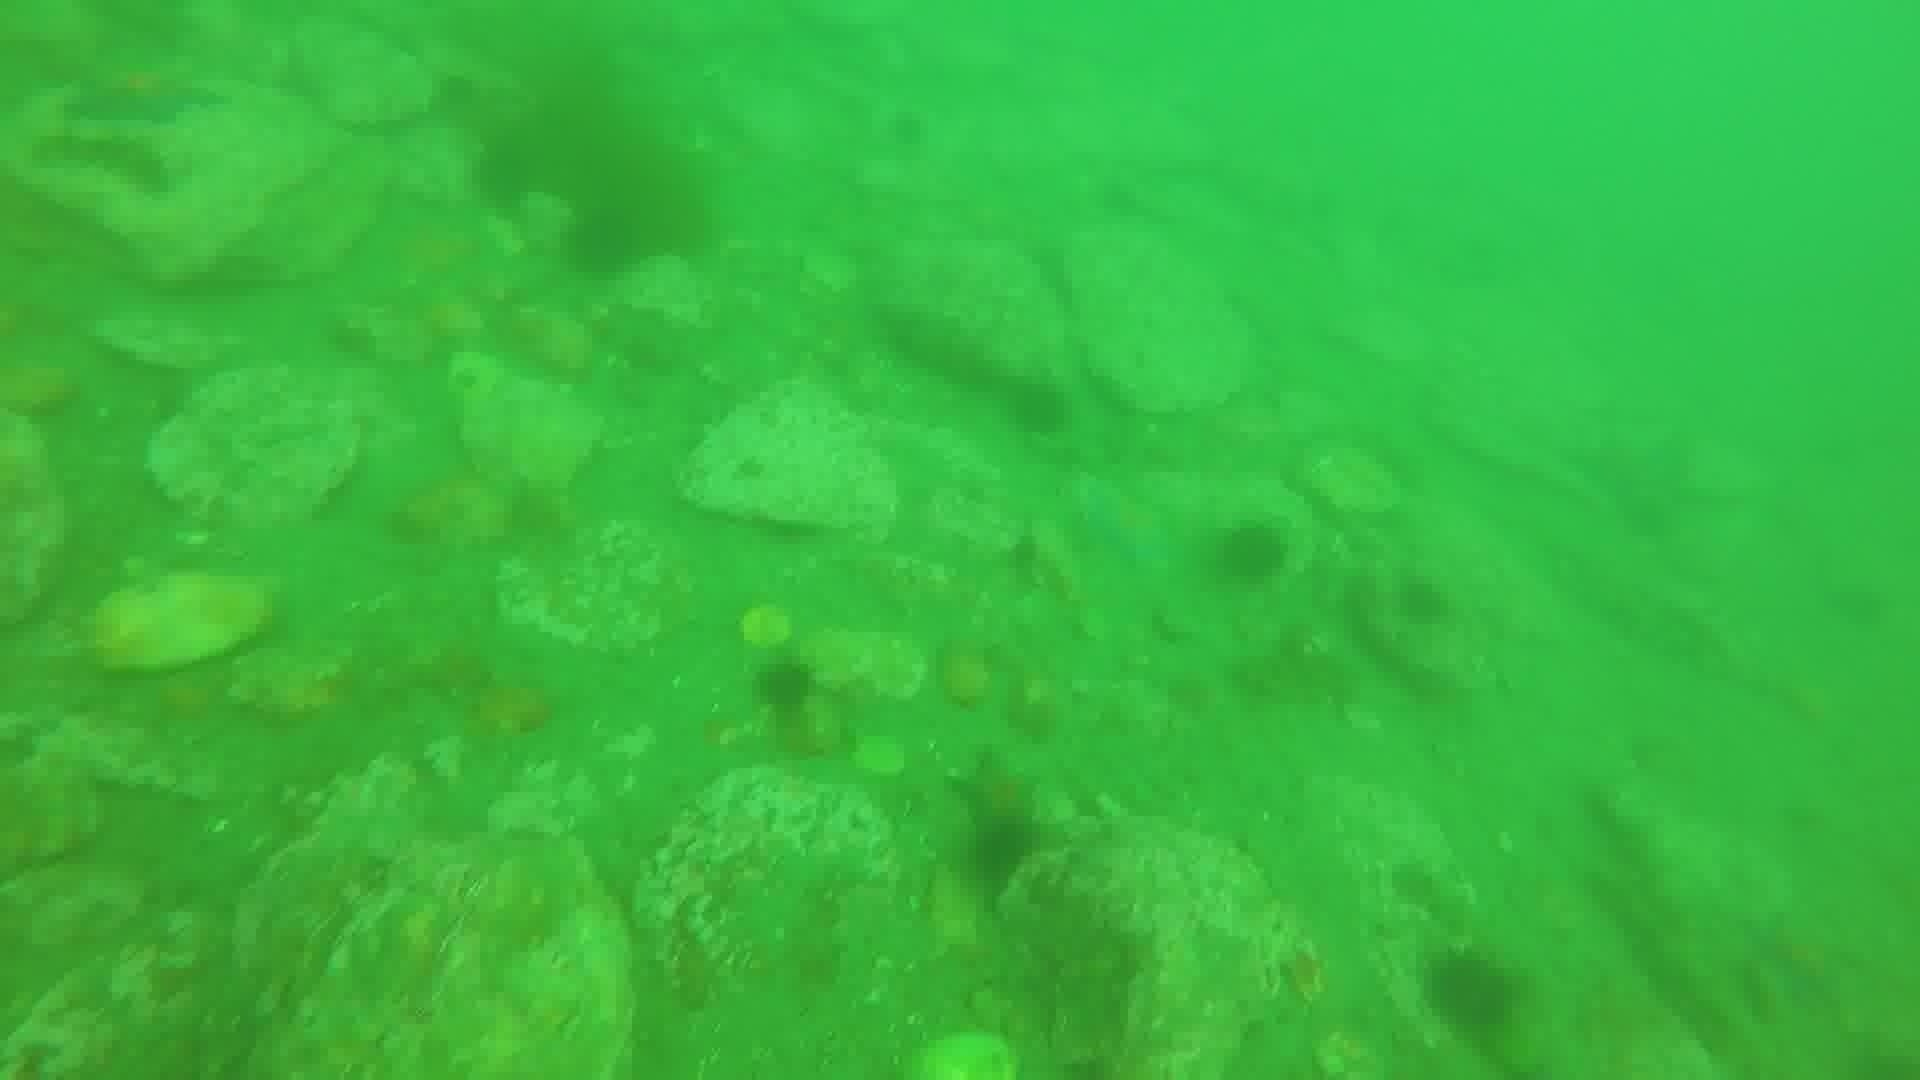echinus: (1418, 945, 1523, 1040), (559, 202, 647, 284), (963, 810, 1042, 891), (467, 135, 545, 215), (1211, 517, 1292, 589), (748, 654, 822, 723), (1000, 375, 1073, 442), (1389, 570, 1455, 632), (1383, 855, 1448, 916)
starfish: (1742, 905, 1861, 1013), (63, 55, 225, 132), (1071, 477, 1179, 574), (945, 749, 1047, 847)
